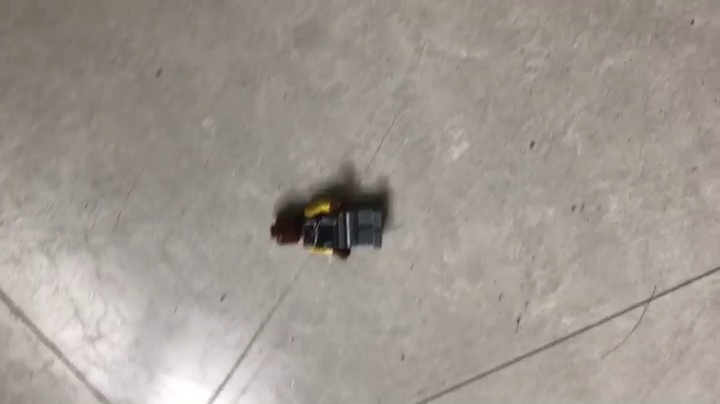people: (270, 195, 390, 263)
